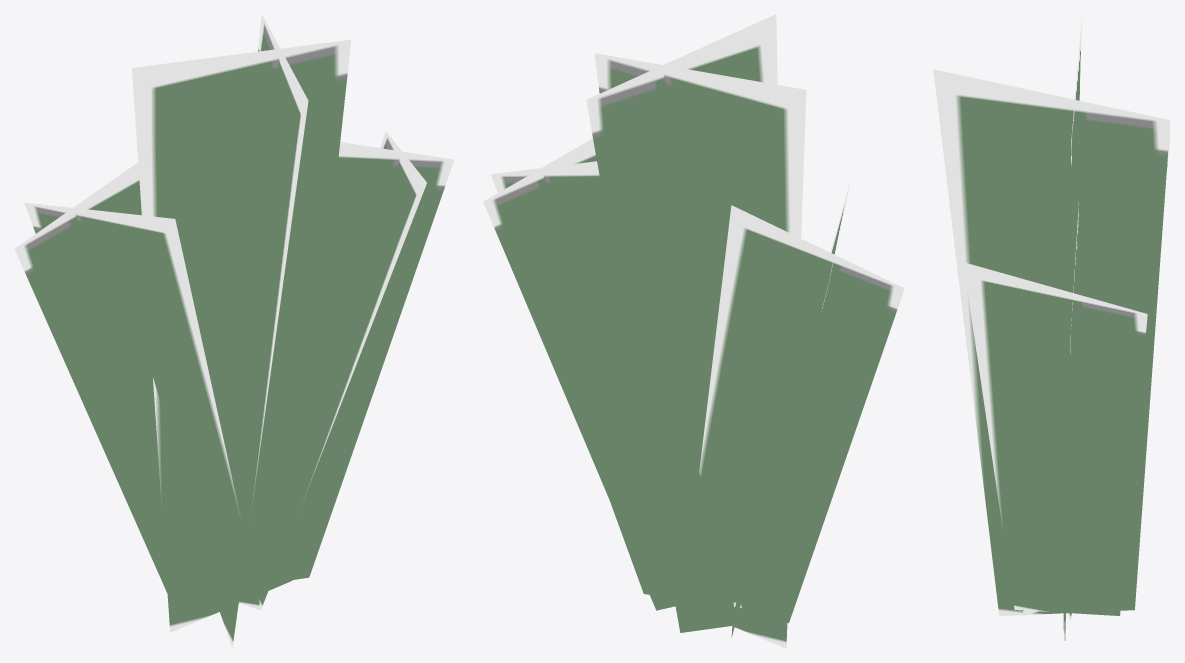
Rendered from Weeds_g.fbx.
3 views of the same model, side by side, from view 1: azimuth 30°, elevation 25°; view 2: azimuth 150°, elevation 25°; view 3: azimuth 270°, elevation 25° (orthographic).
Parts seen in each view (by area): view 1: polySurface35; view 2: polySurface35; view 3: polySurface35.
Boxes of the visible parts, x1,y1,x2,y2 form: polySurface35: (14, 14, 454, 648); polySurface35: (483, 14, 904, 648); polySurface35: (933, 14, 1170, 640).
Size of the model in its own units: 0.5336 by 0.6798 by 0.2554.
